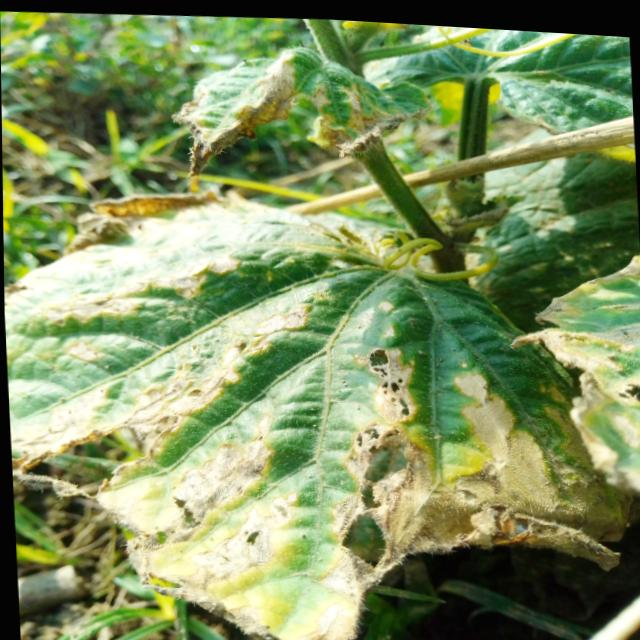Gummy-Stem-Blight: (404, 404, 640, 582), (158, 37, 426, 192)
